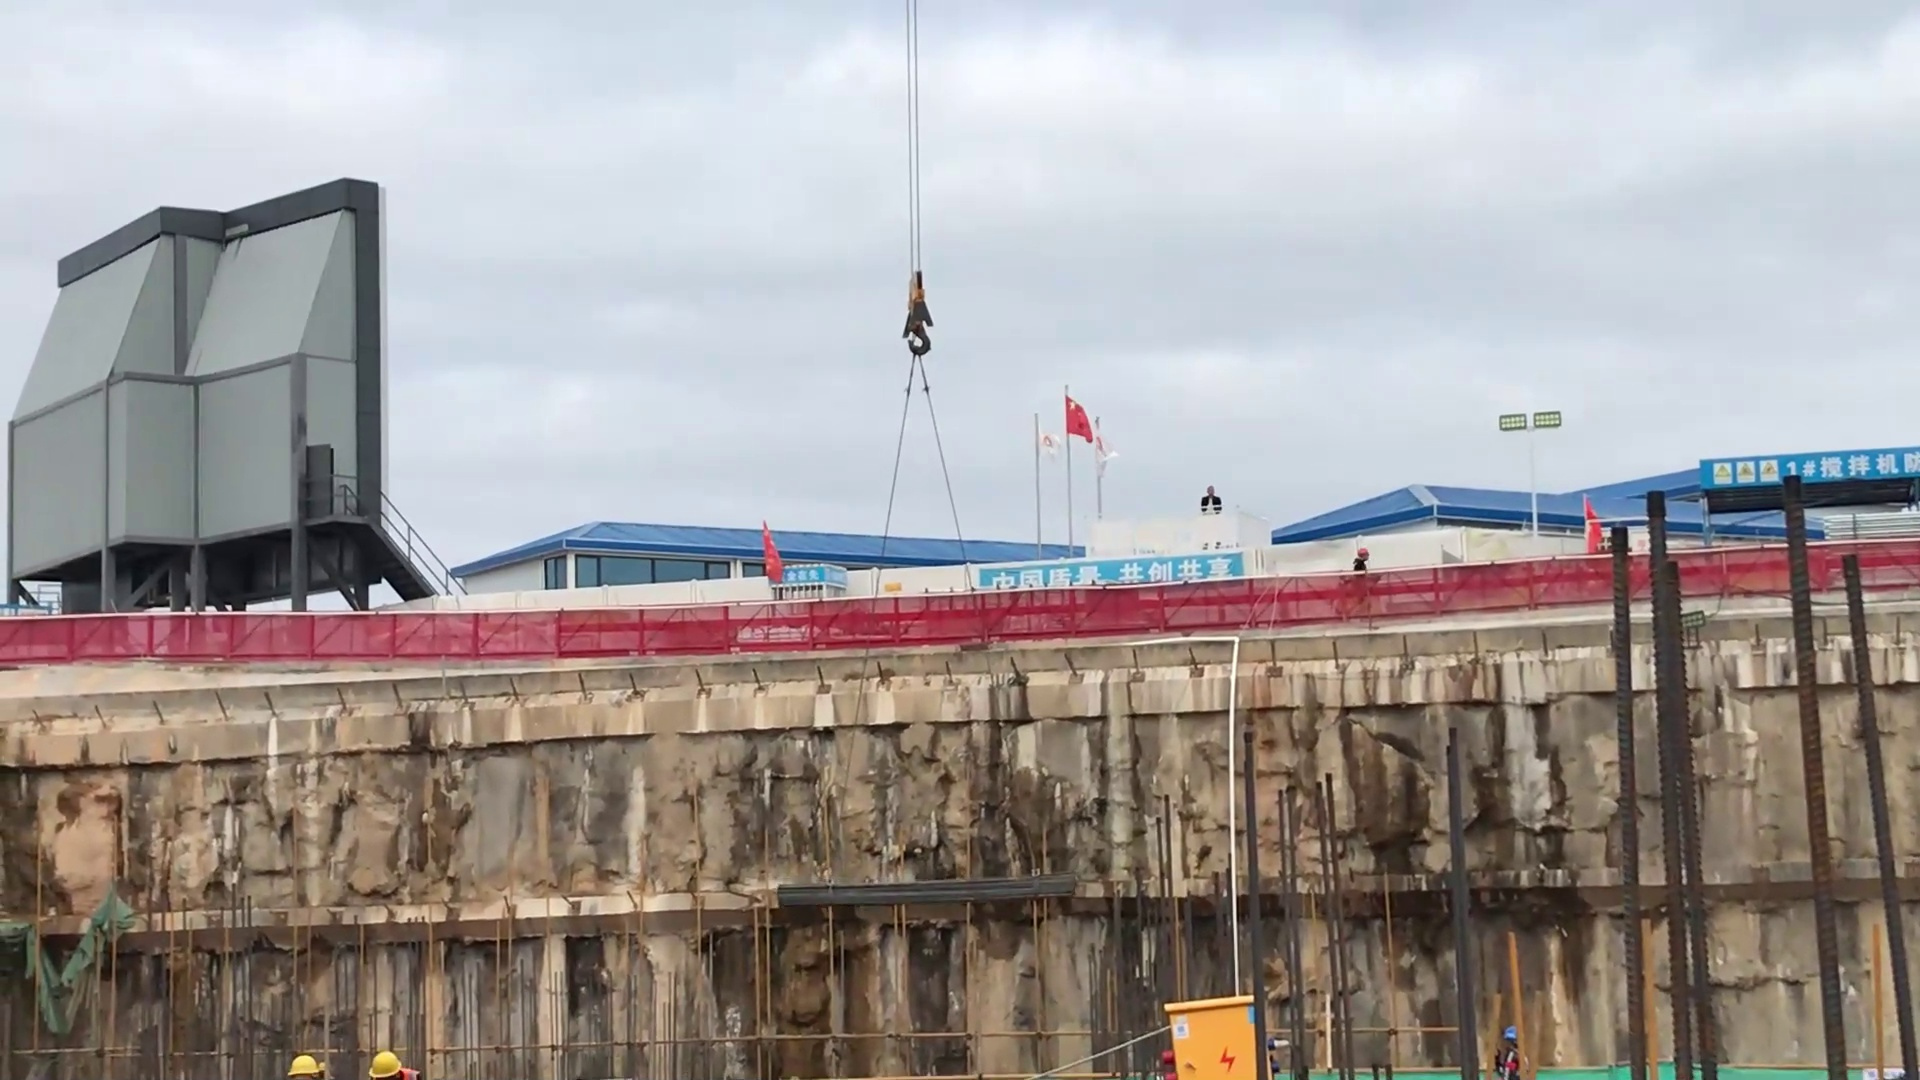ebox: (1159, 986, 1264, 1080)
fence: (6, 603, 836, 668), (845, 583, 1286, 666), (1575, 548, 1920, 602), (1284, 565, 1582, 625)
helmet: (359, 1047, 410, 1080), (282, 1050, 321, 1080), (1354, 547, 1370, 558)
hook: (884, 251, 945, 368)
person: (1194, 472, 1230, 520), (1347, 540, 1374, 573)
slogan: (978, 561, 1245, 604), (1698, 451, 1920, 496), (774, 561, 852, 587)
